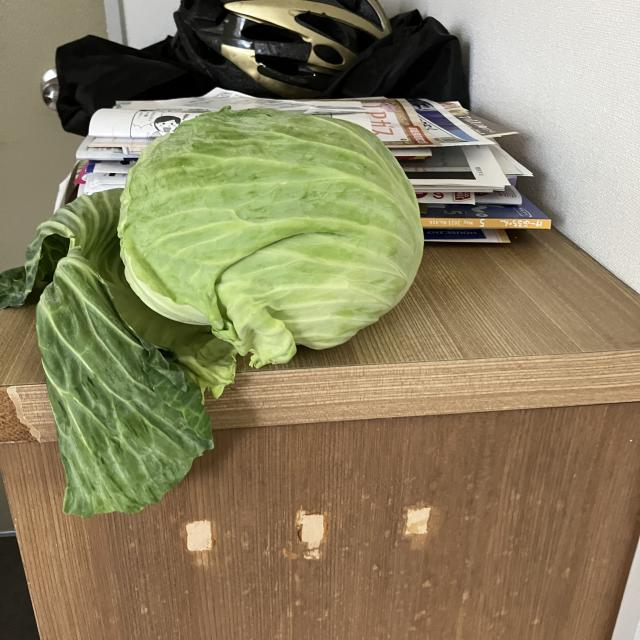cabbage: (0, 104, 426, 516)
